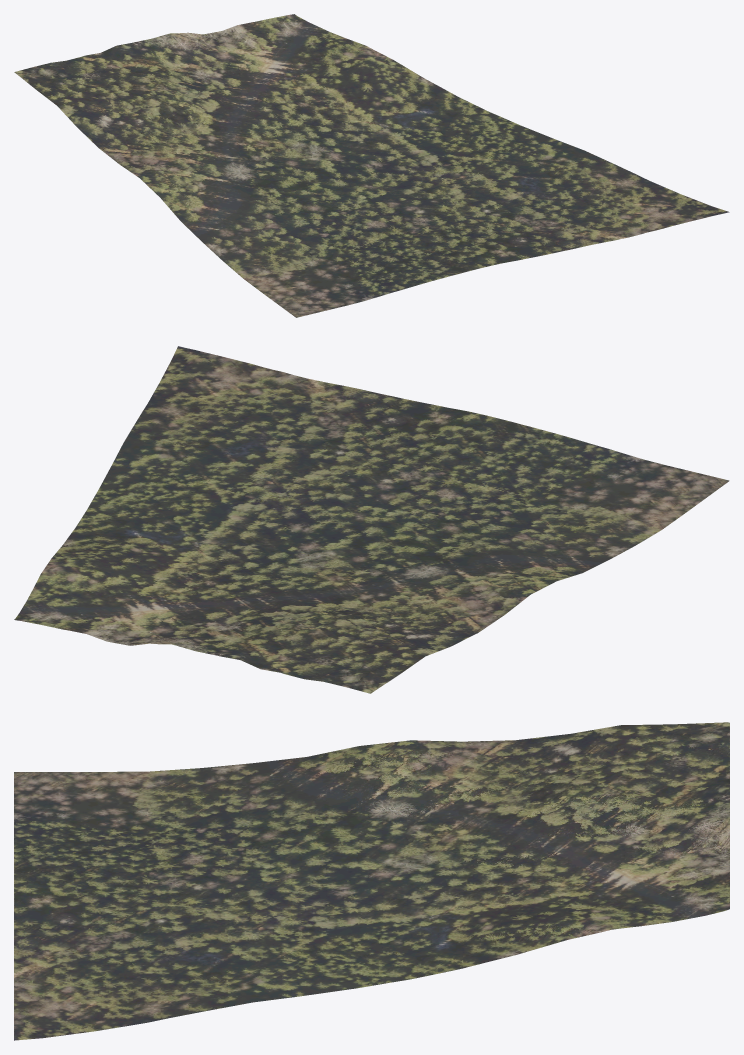
The model's file is CM_Terrain_24491073_6822251.fbx.
3 renders of one model, top to bottom at view 1: azimuth 30°, elevation 25°; view 2: azimuth 150°, elevation 25°; view 3: azimuth 270°, elevation 25°, orthographic. The views are drawn at different scales.
Parts seen in each view (by area): view 1: CM_Terrain_24491073_6822251_LOD0; view 2: CM_Terrain_24491073_6822251_LOD0; view 3: CM_Terrain_24491073_6822251_LOD0.
Boxes of the visible parts, bbox=[...] form: CM_Terrain_24491073_6822251_LOD0: bbox=[14, 14, 729, 317]; CM_Terrain_24491073_6822251_LOD0: bbox=[14, 346, 729, 693]; CM_Terrain_24491073_6822251_LOD0: bbox=[14, 722, 729, 1040].
Size of what is drawn, in the model's own units: 182 by 16.71 by 205.
